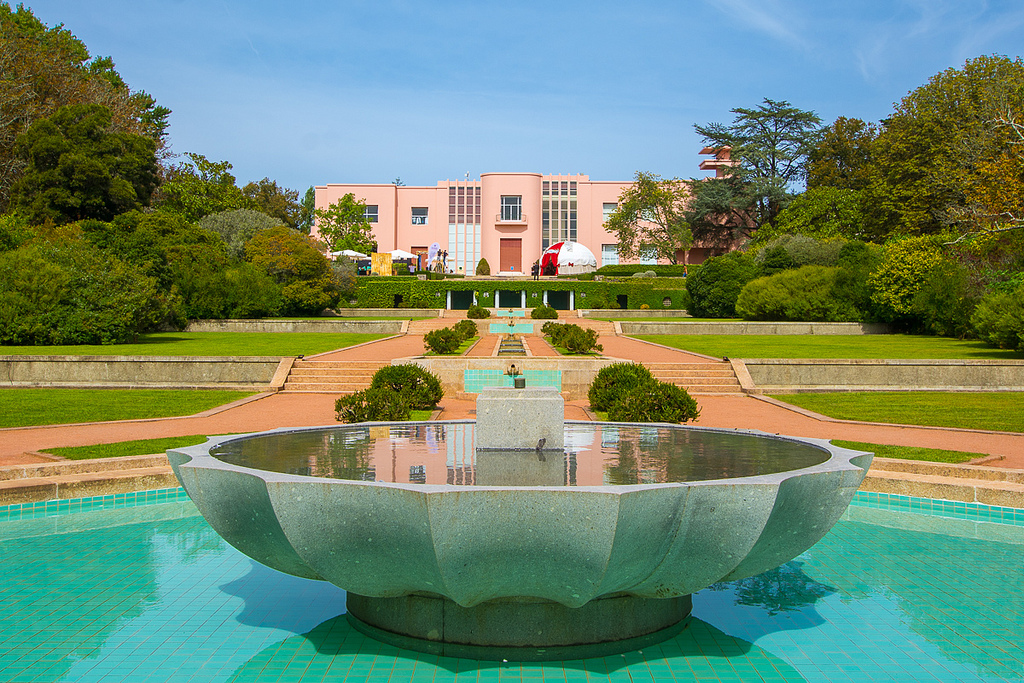serralves: (301, 142, 762, 279)
